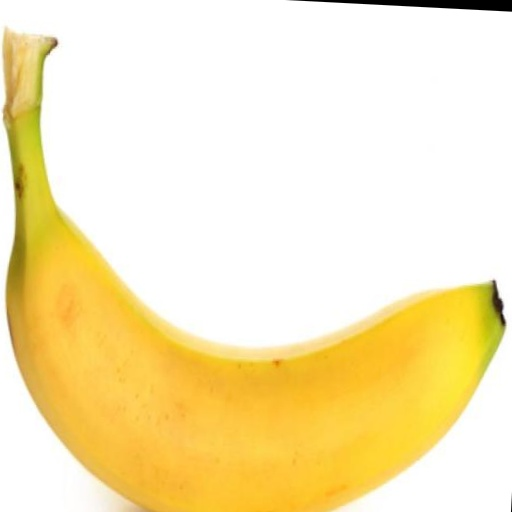fruit: (3, 30, 503, 512)
